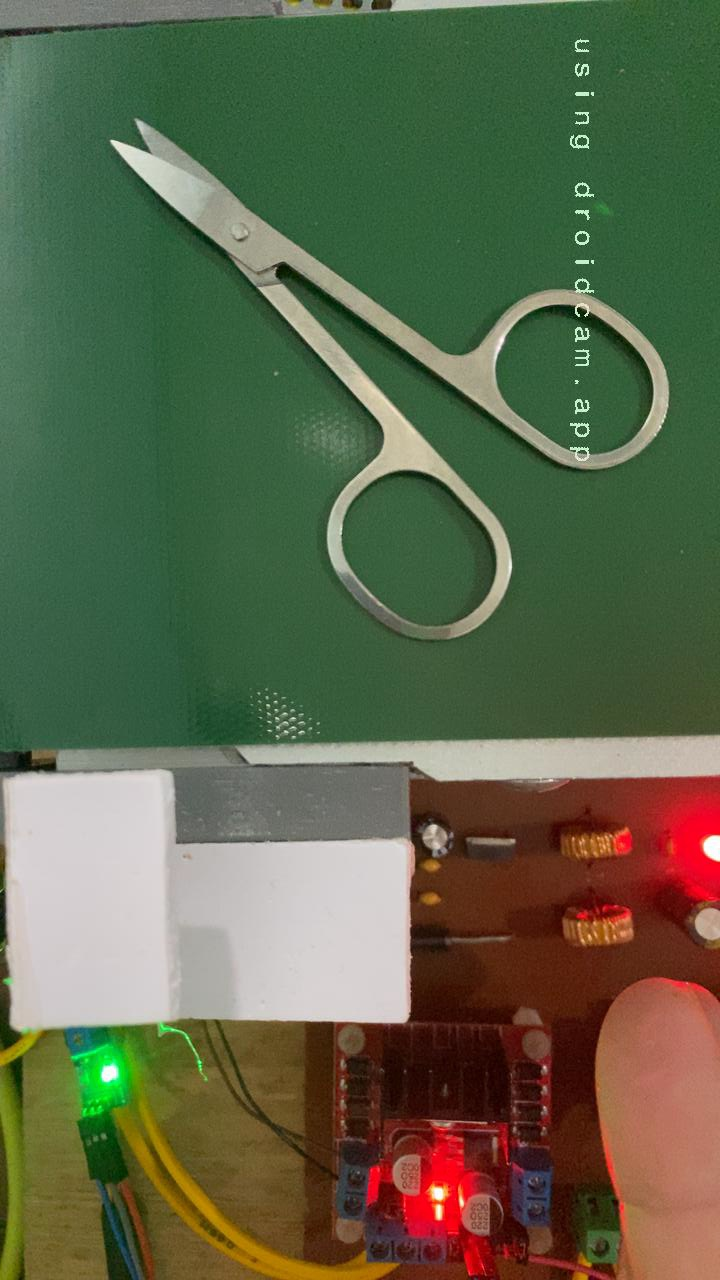scissor: (104, 114, 677, 647)
